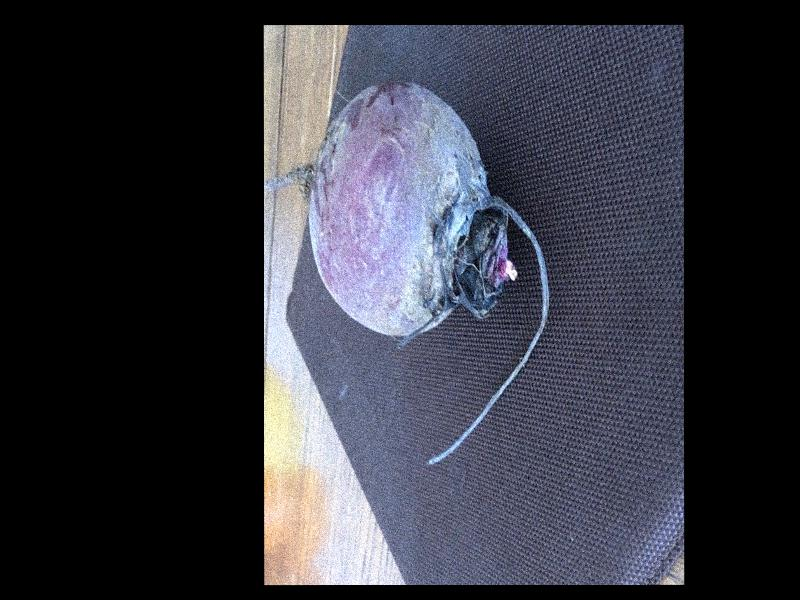Beet: (264, 80, 549, 465)
